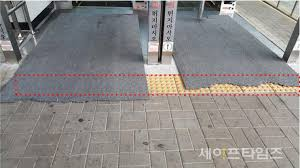guide_blocks: (146, 76, 300, 93)
